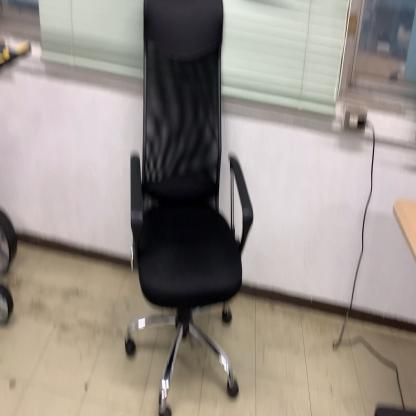chair: (122, 0, 255, 414)
